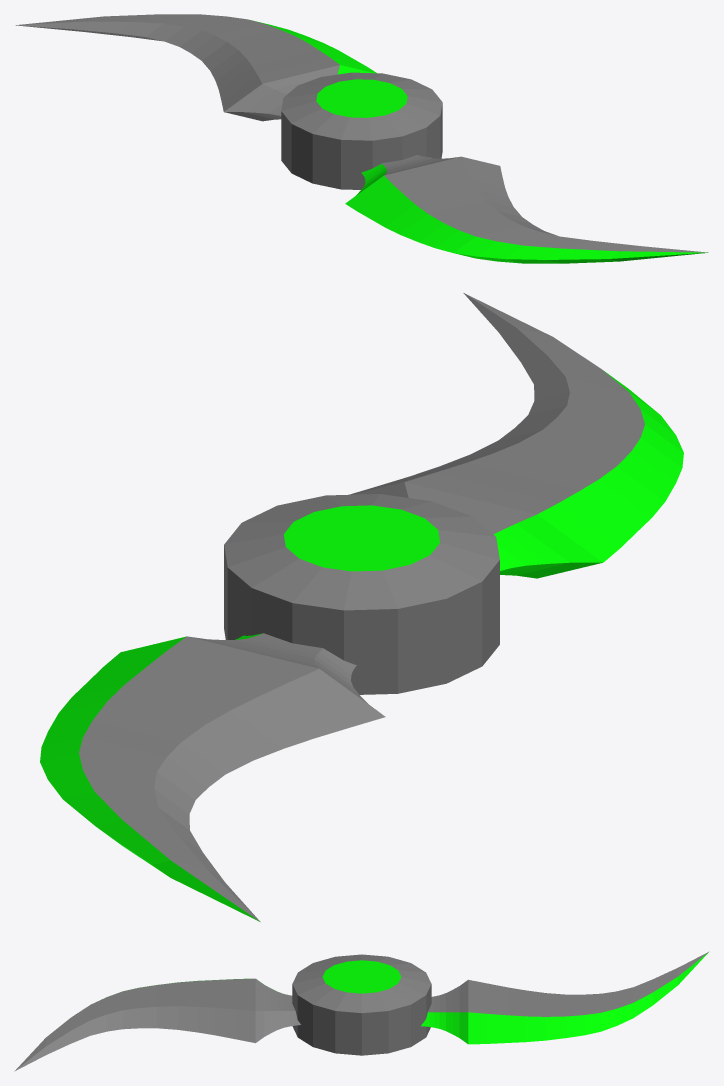
File: Beyblade_Basic_Blade.fbx
3 renders of one model, top to bottom at view 1: azimuth 30°, elevation 25°; view 2: azimuth 150°, elevation 25°; view 3: azimuth 270°, elevation 25°, orthographic. The views are drawn at different scales.
Visible parts, largest first — view 1: Circle.001; view 2: Circle.001; view 3: Circle.001.
Boxes of the visible parts, x1,y1,x2,y2 form: Circle.001: [15, 14, 708, 263]; Circle.001: [40, 293, 683, 921]; Circle.001: [14, 951, 709, 1071].
Size of the model in its own units: 162 by 35.77 by 394.
1 material, 1 textured.
